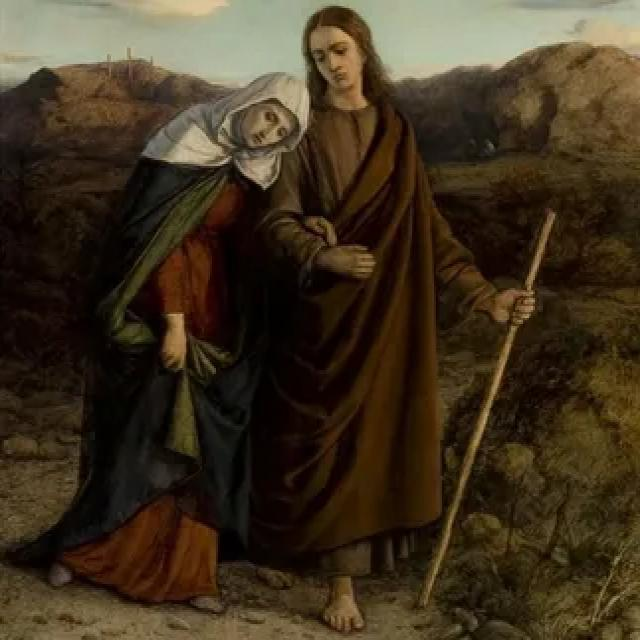mother of god: (59, 64, 316, 626)
